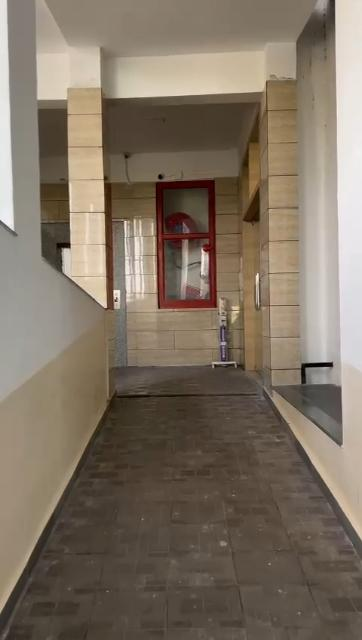floor: (11, 362, 362, 636)
wall: (0, 225, 108, 619), (262, 21, 310, 382), (70, 14, 106, 314), (341, 0, 362, 506), (114, 186, 154, 364), (12, 5, 36, 265), (214, 182, 246, 296), (157, 310, 209, 364)
